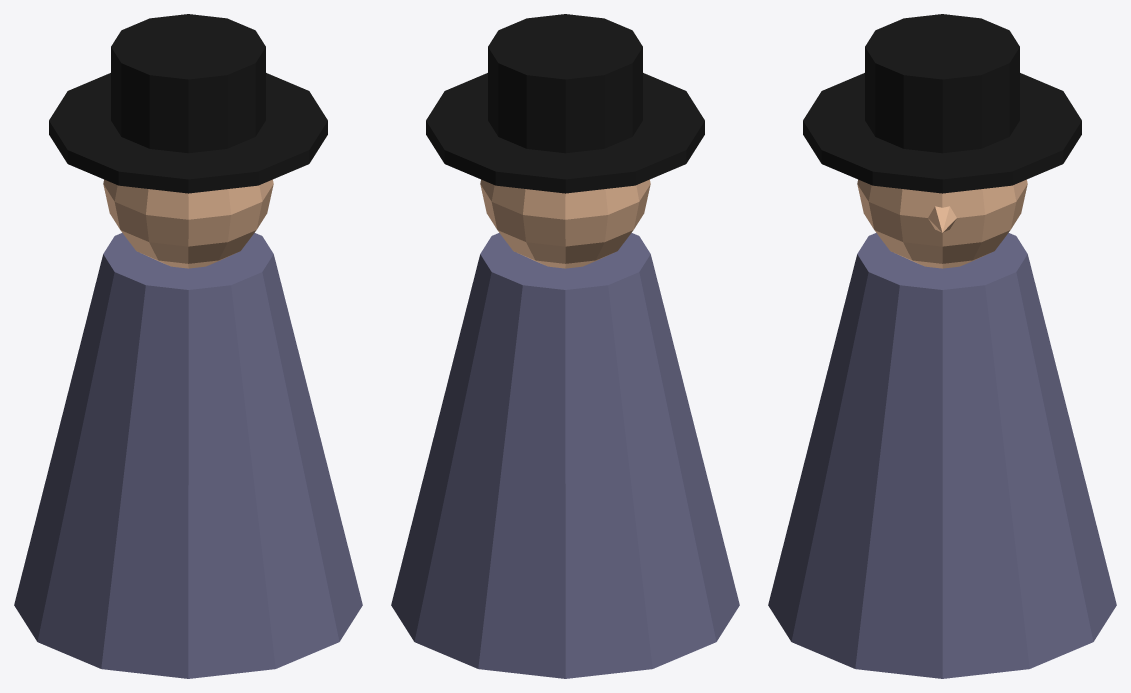
Rendered from pilgrim3d.obj.
The picture shows the model from 3 angles, left to right: view 1: azimuth 30°, elevation 25°; view 2: azimuth 150°, elevation 25°; view 3: azimuth 270°, elevation 25°; orthographic projection.
Size of the model in its own units: 0.9 by 1.59 by 0.9.
